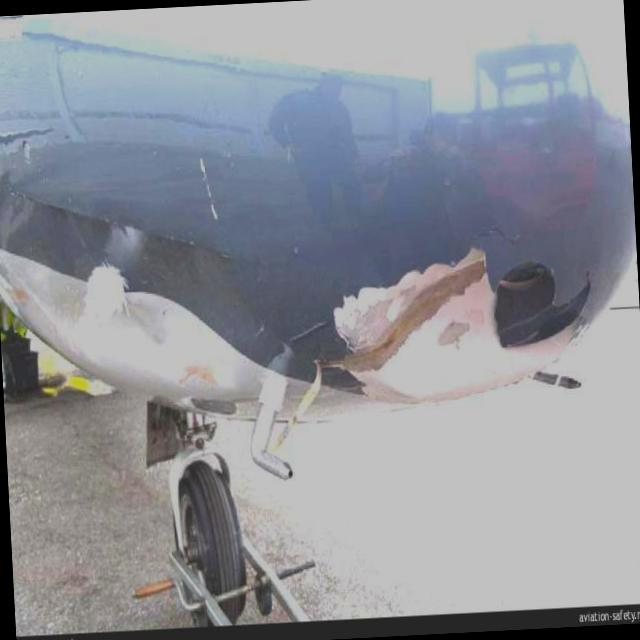crack: (474, 220, 524, 252)
dent: (369, 297, 499, 398), (112, 292, 238, 393)
